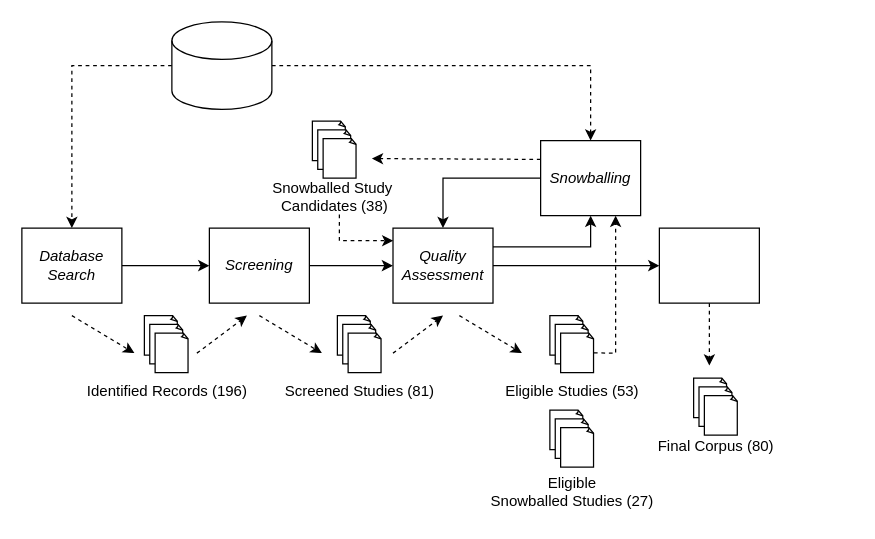
This 875x539 diagram has some shape labels left out. Each missing label, with the centre of its shape:
Scholarly Databases: point 221,65
Study Inclusion: point 708,265
